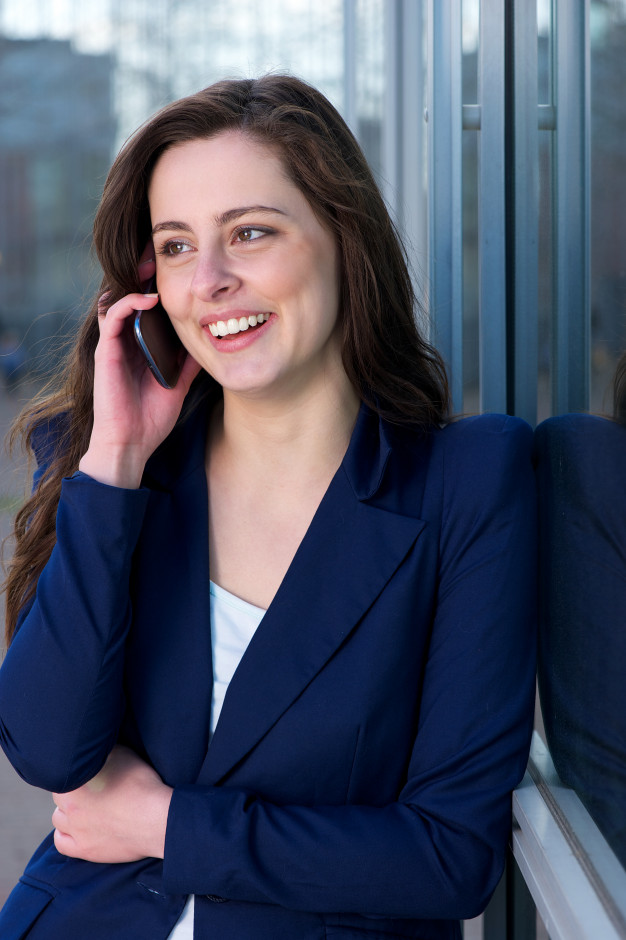phone: (92, 242, 206, 402)
talk: (86, 197, 318, 443)
